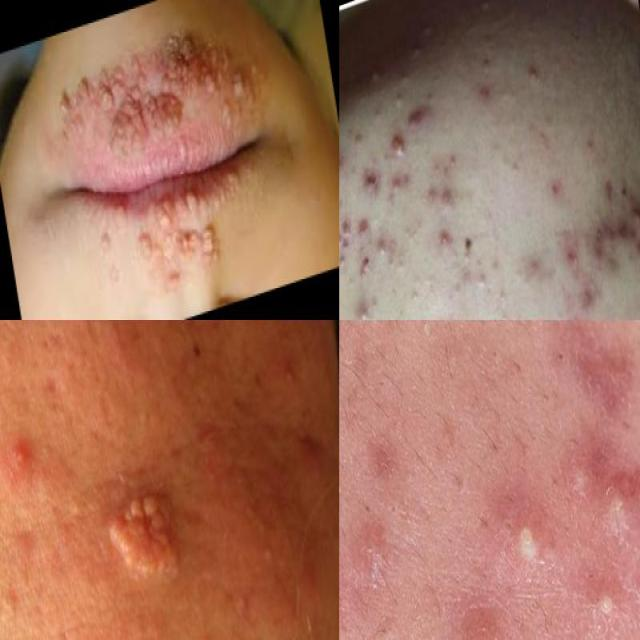acne_scars: (587, 204, 640, 258)
comedone: (372, 217, 407, 280), (274, 338, 306, 395), (252, 521, 282, 571), (230, 571, 256, 623), (498, 146, 533, 184), (519, 47, 546, 94), (473, 36, 502, 78), (404, 265, 428, 315), (0, 569, 18, 619), (512, 260, 534, 299), (470, 267, 492, 297), (406, 38, 424, 70), (397, 64, 415, 93), (422, 14, 440, 41), (392, 92, 414, 110), (339, 252, 350, 287), (368, 62, 383, 84), (498, 301, 511, 320)
flat_wart: (23, 0, 292, 196), (79, 157, 264, 320)
papule: (3, 422, 33, 477), (399, 98, 434, 143), (560, 237, 590, 284), (432, 176, 468, 212), (358, 160, 384, 206), (573, 279, 601, 320), (430, 223, 460, 257), (470, 79, 495, 113), (344, 125, 368, 157), (386, 172, 409, 204), (355, 202, 370, 241), (339, 143, 347, 180)
pustule: (585, 547, 623, 636), (504, 495, 538, 569), (386, 127, 412, 164), (346, 292, 376, 320)
sebo-crystan-conglo: (601, 446, 640, 546)
syringoma: (100, 472, 192, 607)
